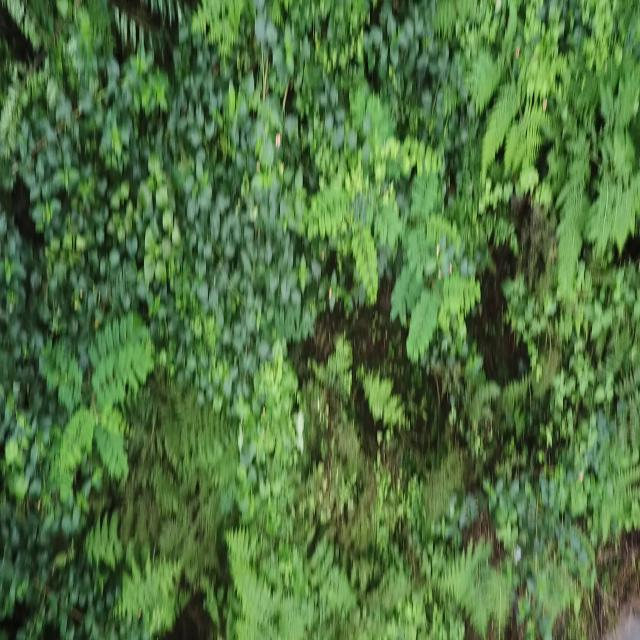Mysore-Thorn-Weed: (329, 79, 488, 390), (33, 302, 154, 491)
